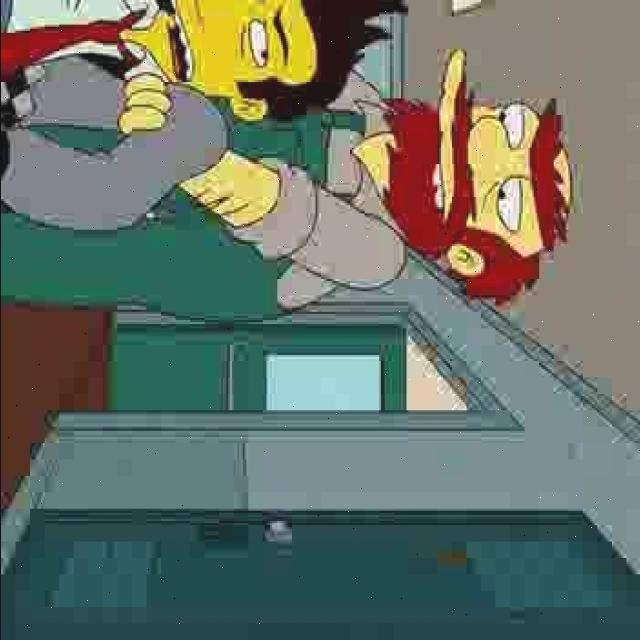Groundskeeper Willie: (367, 46, 575, 312)
